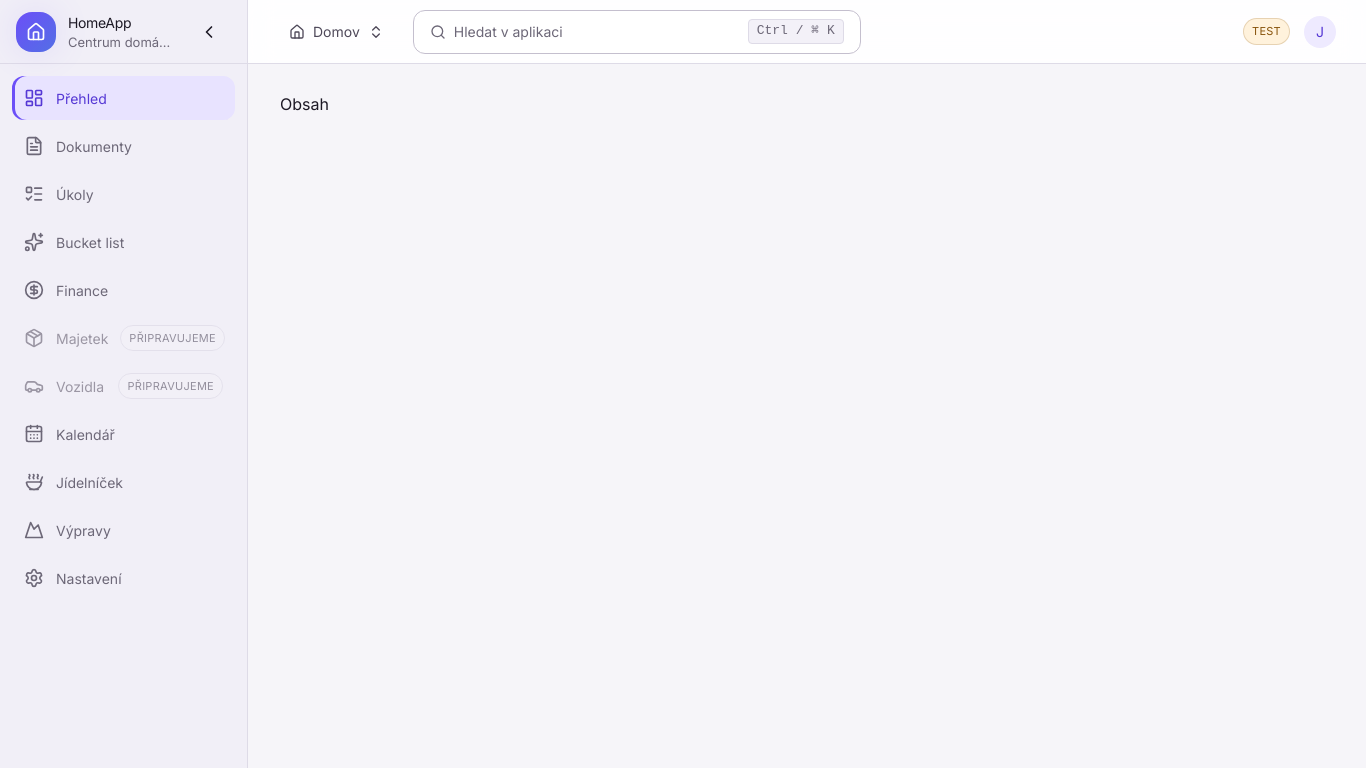
application shell navigation › hides create commands from VIEWER while keeping navigation commands
Step 1. Click the button "Hledat v aplikaci Ctrl / ⌘ K" → (508, 32), box [413,10,861,54]
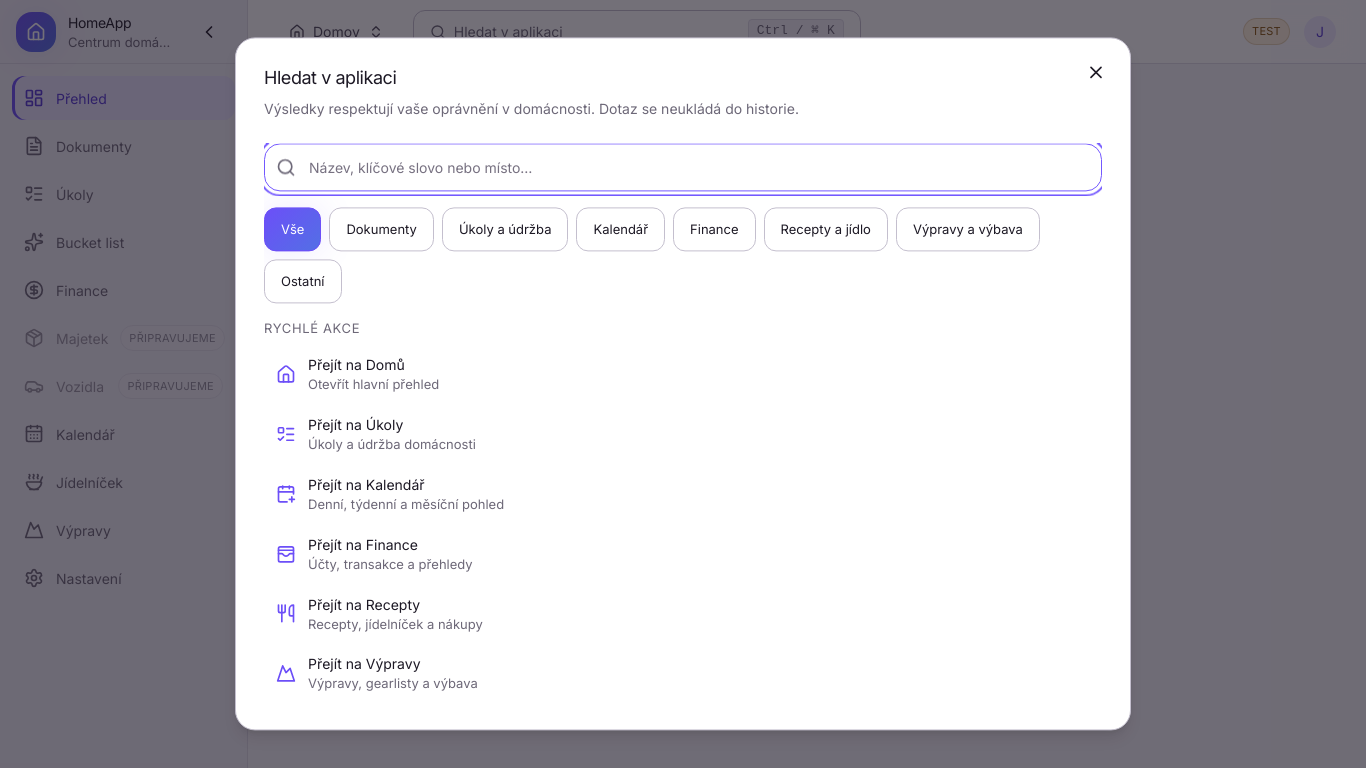
Now the option "Přejít na Úkoly Úkoly a údržba domácnosti" is shown, box [264,406,1098,462]
